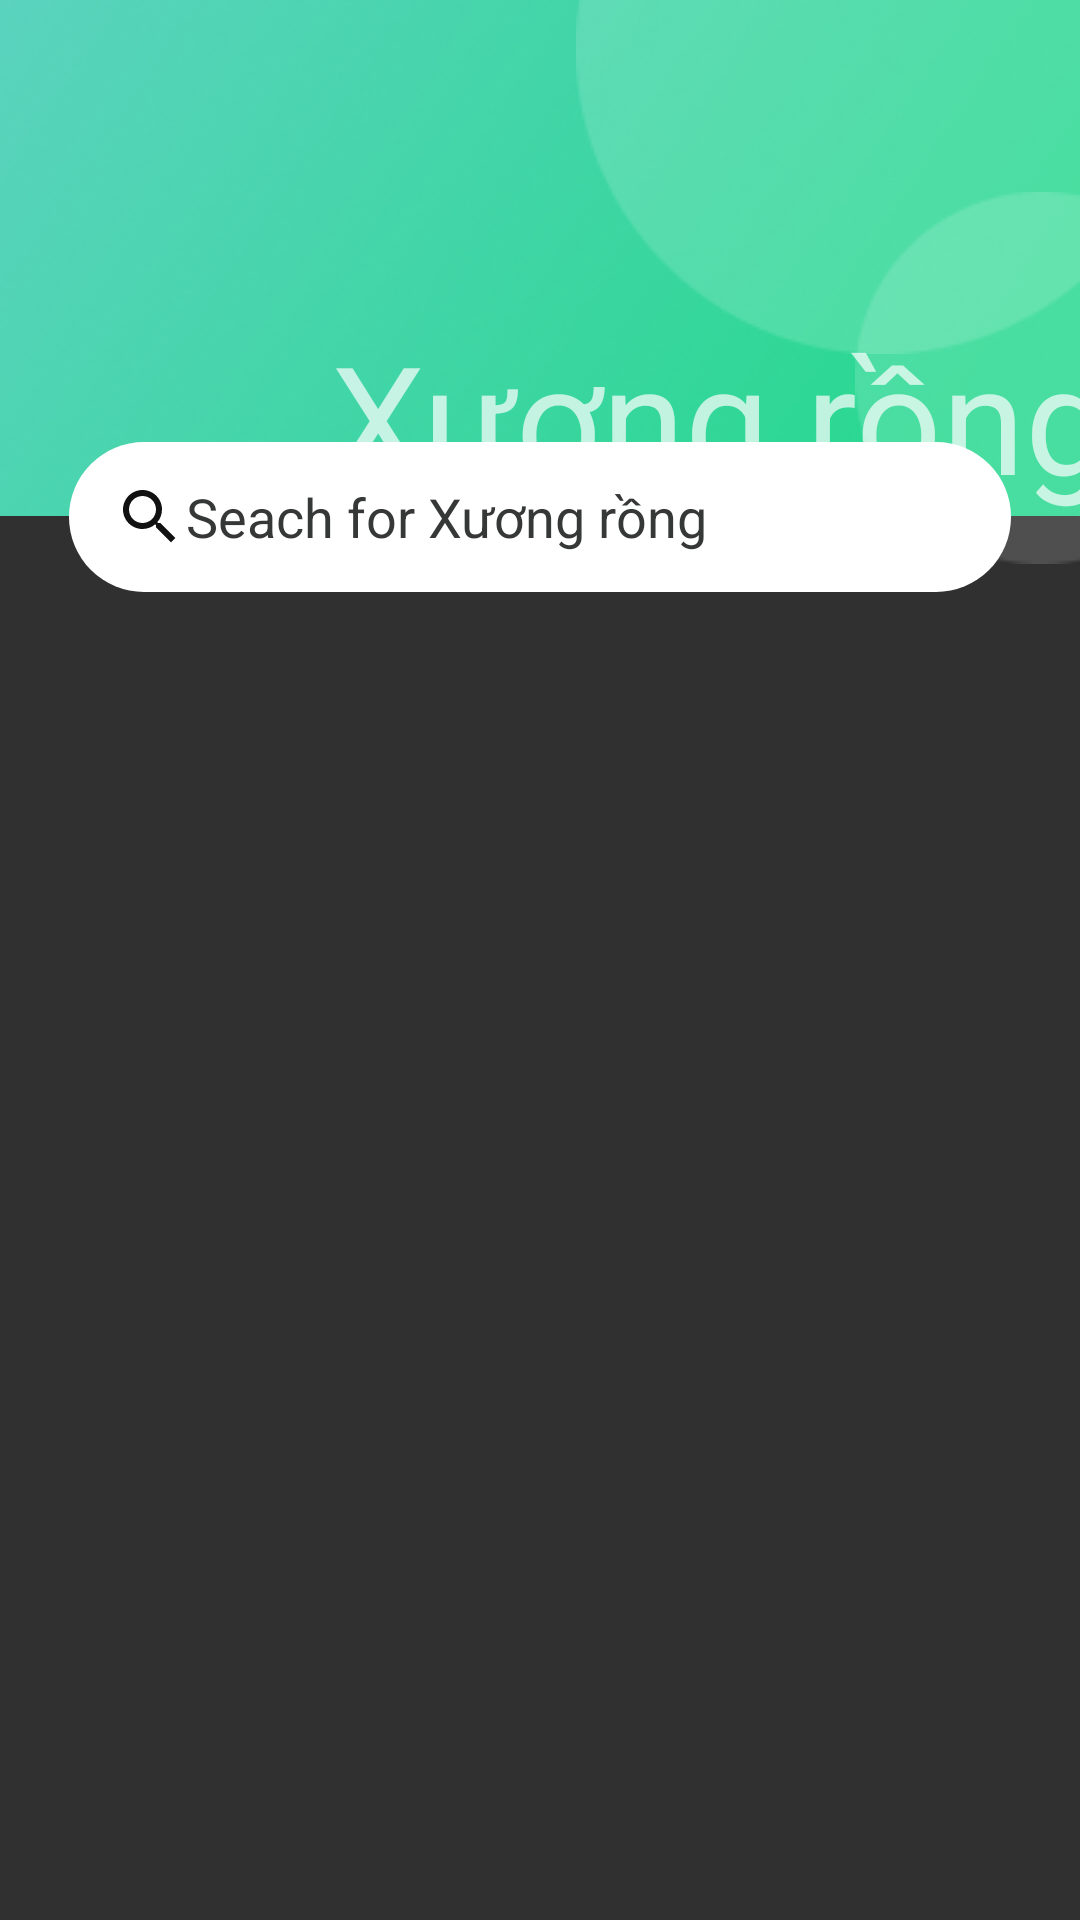

Icons on this 1080*1920 Android screen, each with its box as {"left": x1, "top": y1, "right": x2, "bottom": y2}:
search: {"left": 123, "top": 490, "right": 175, "bottom": 542}
